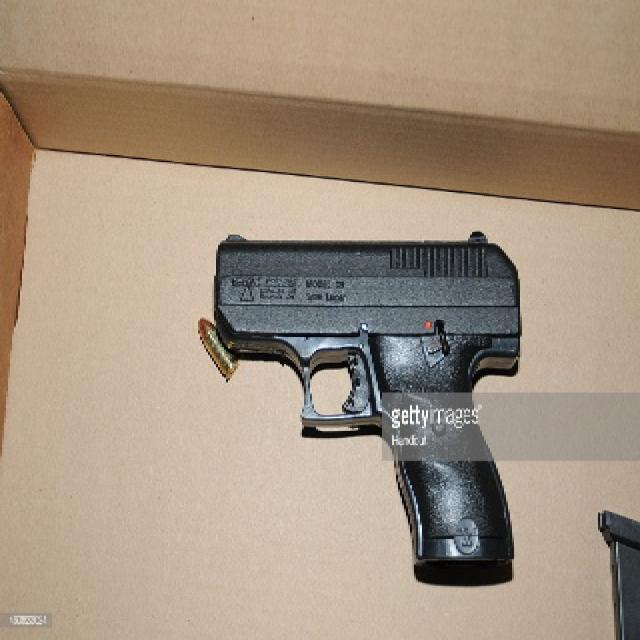handgun: (197, 229, 529, 576)
